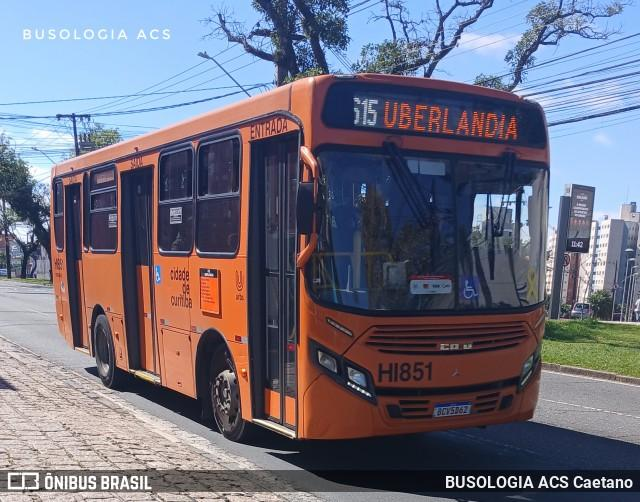UBERLANDIA: (379, 95, 523, 143)
